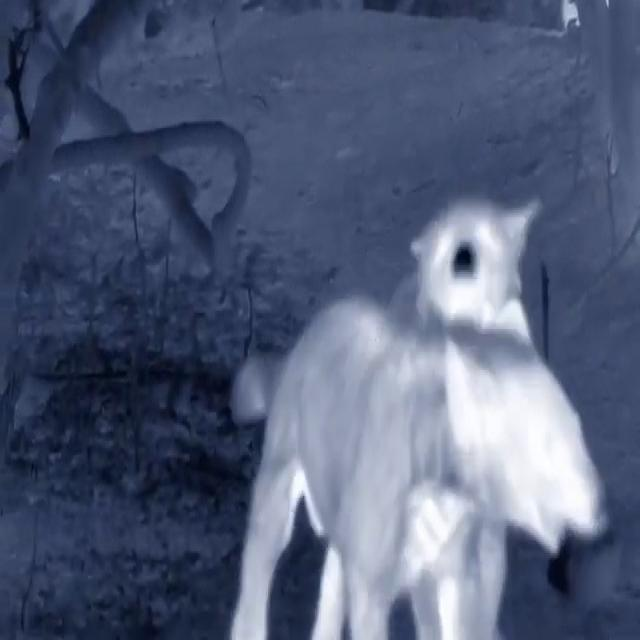animal: (244, 190, 640, 640), (396, 142, 620, 632)
